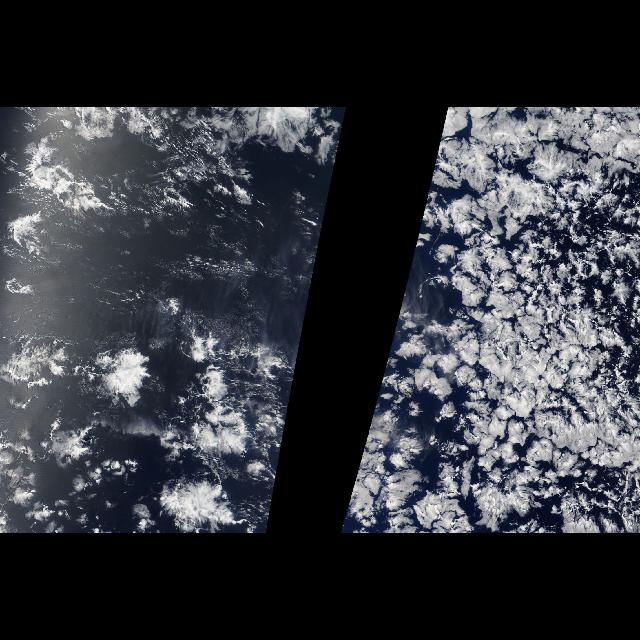Flower: (356, 109, 640, 532), (1, 301, 300, 534)
Gravel: (7, 122, 337, 235)
